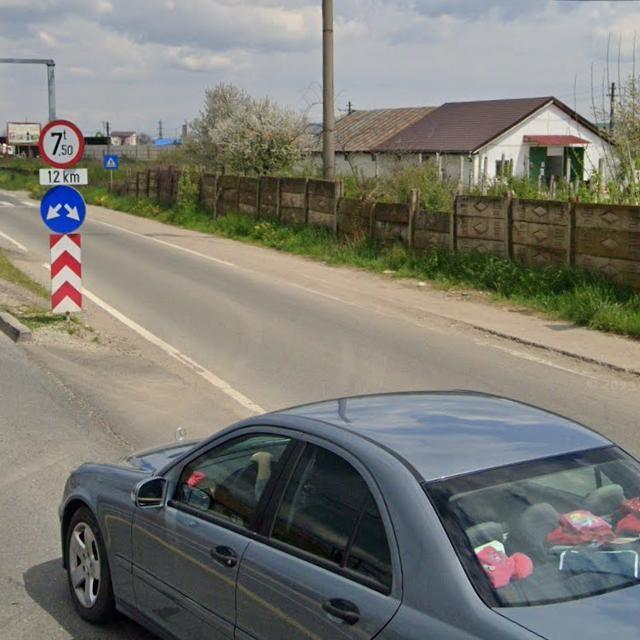info_crosswalk: (104, 155, 119, 170)
